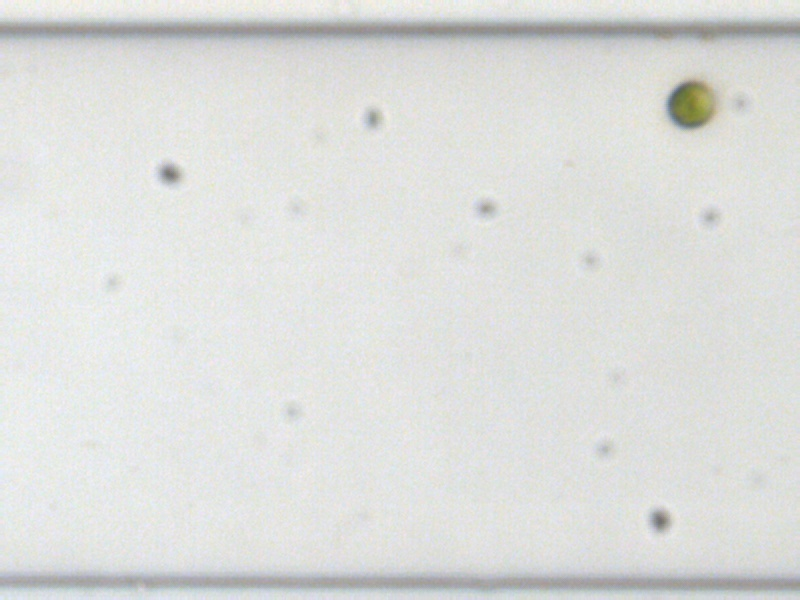Platymonas: (664, 78, 723, 128)
